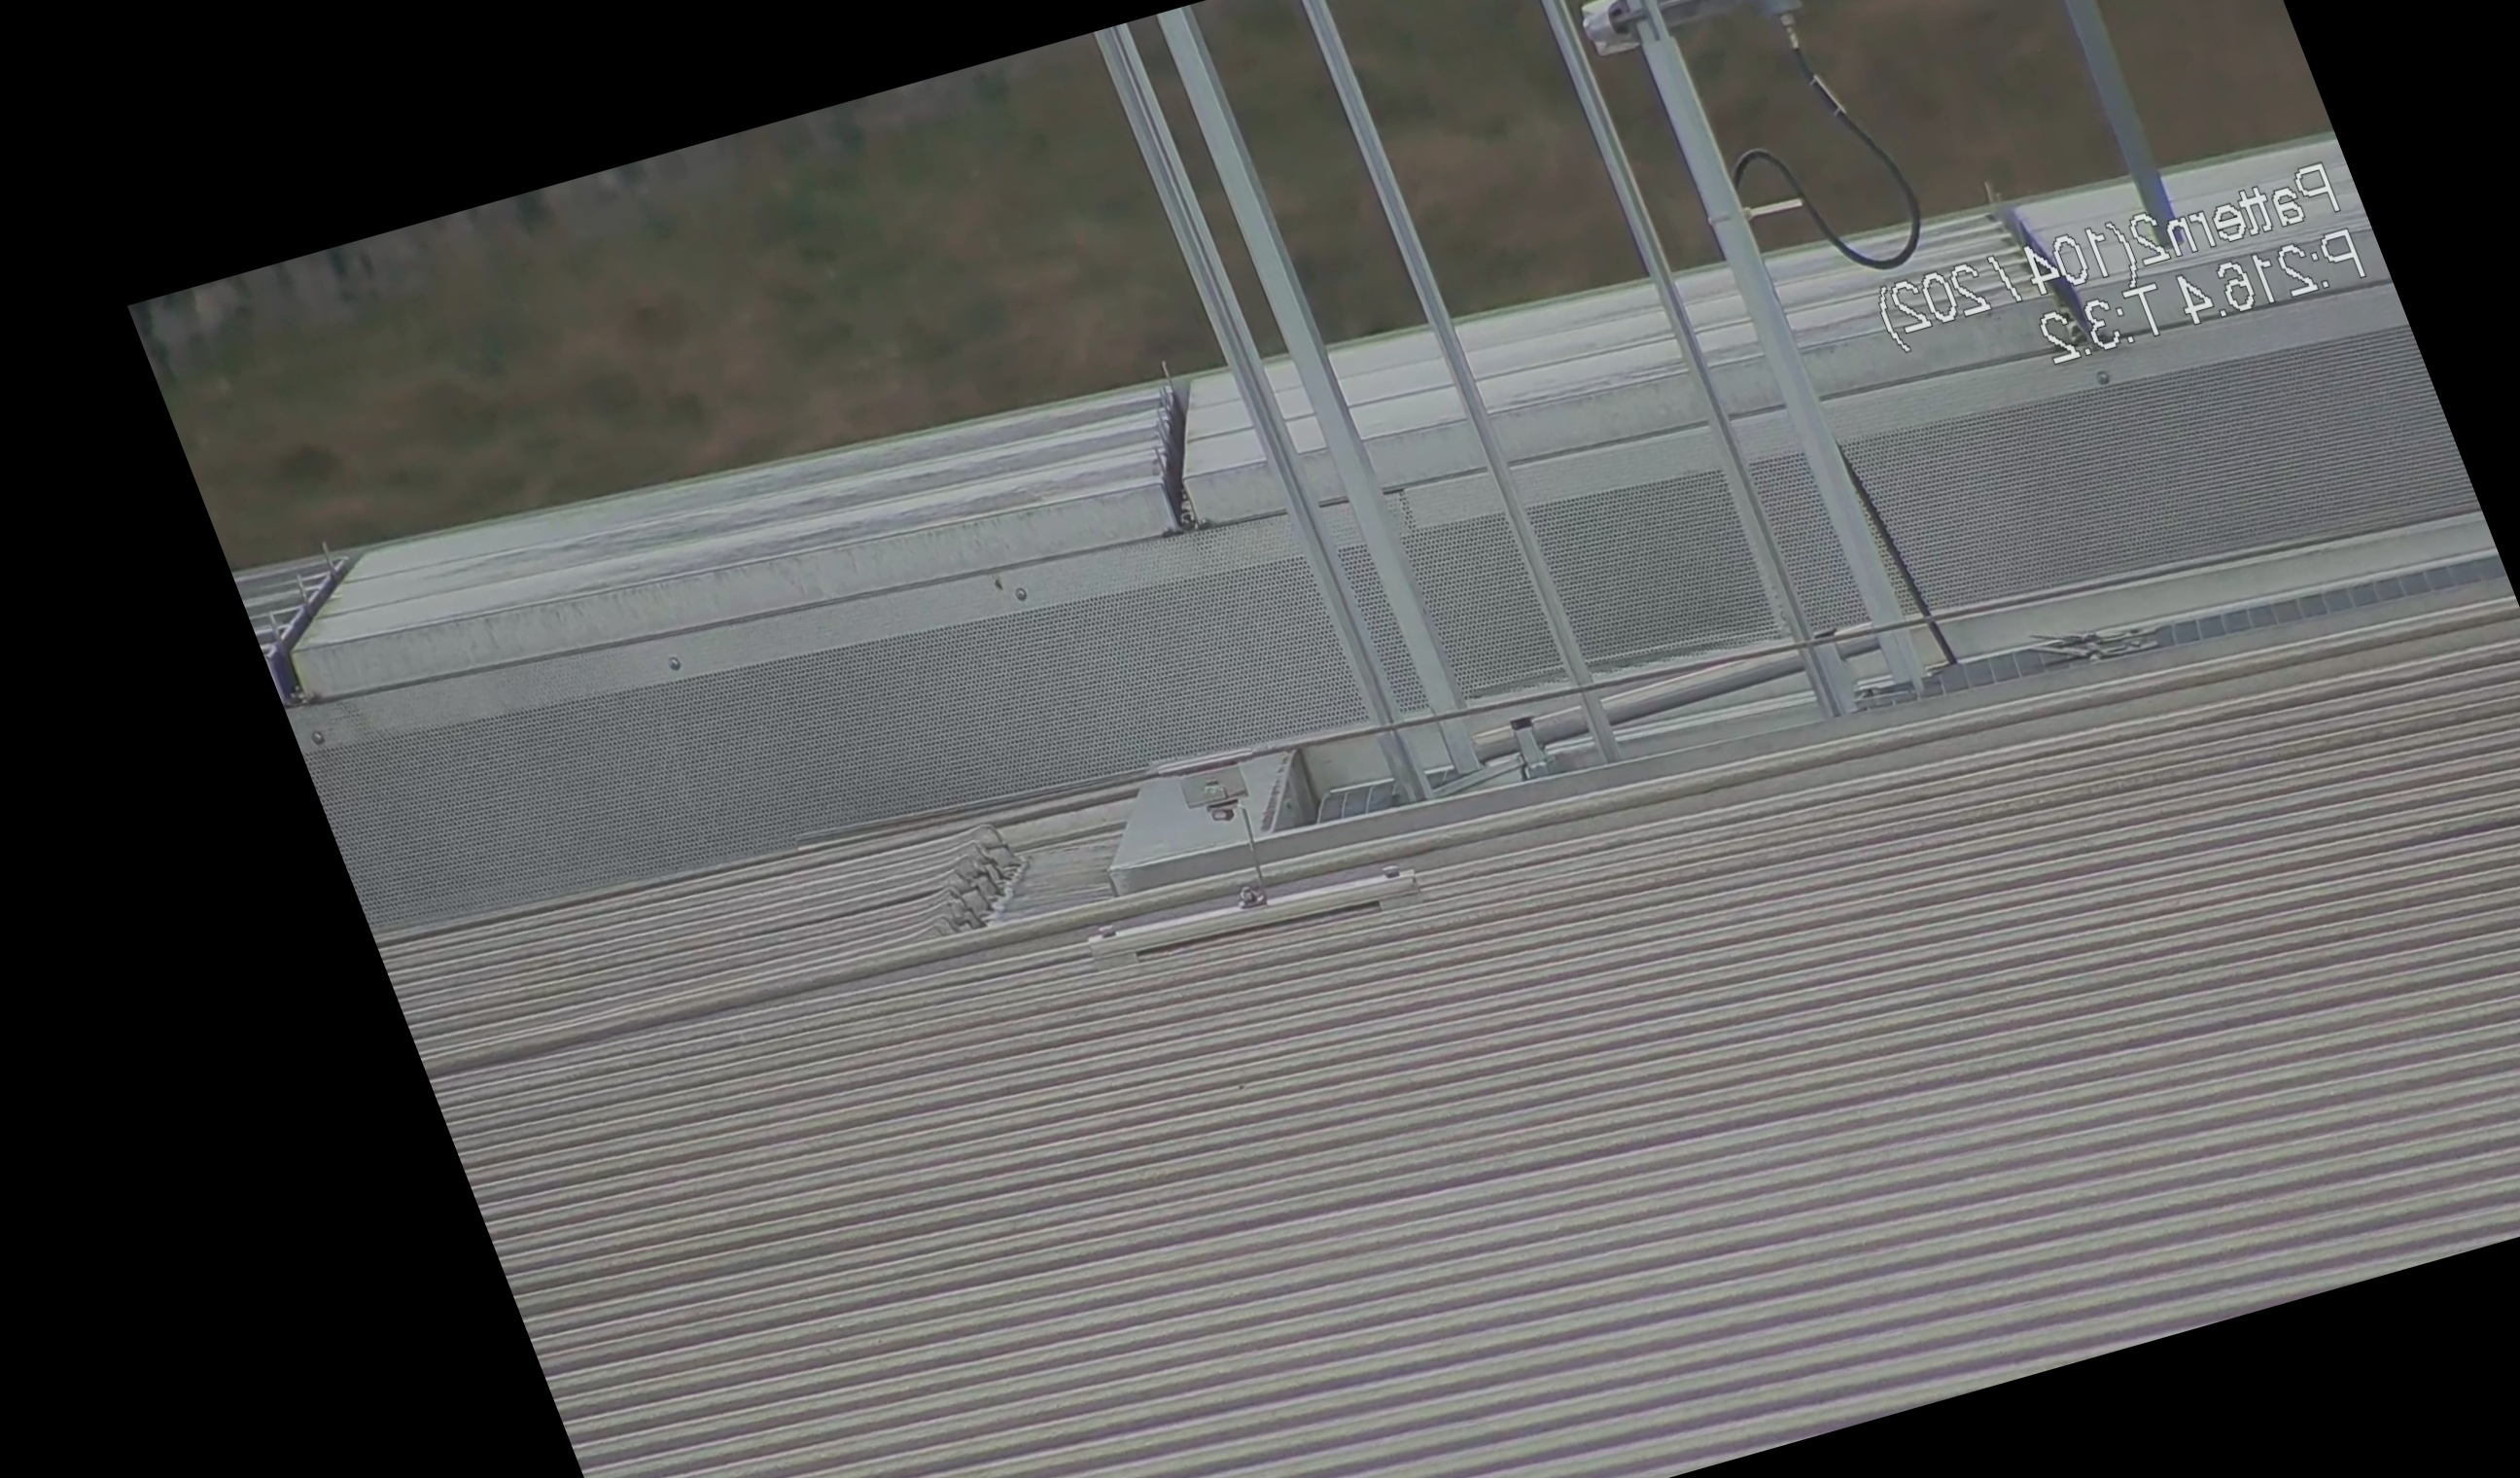Other: (1099, 347, 1252, 540)
